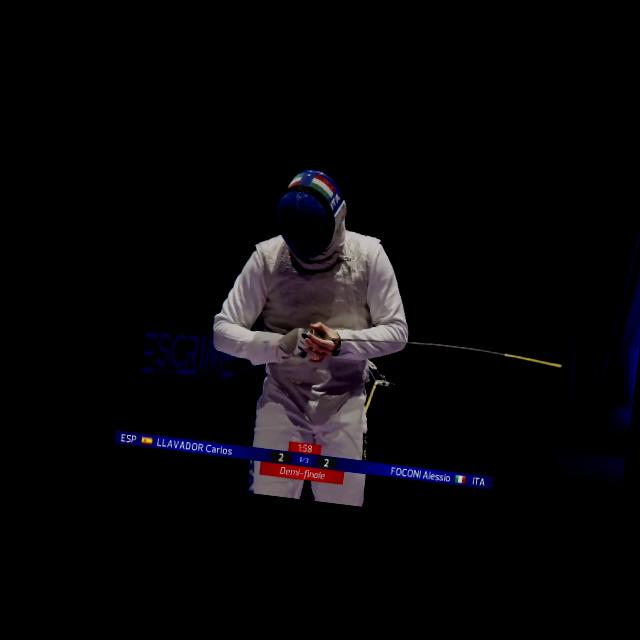blade: (289, 317, 572, 392)
